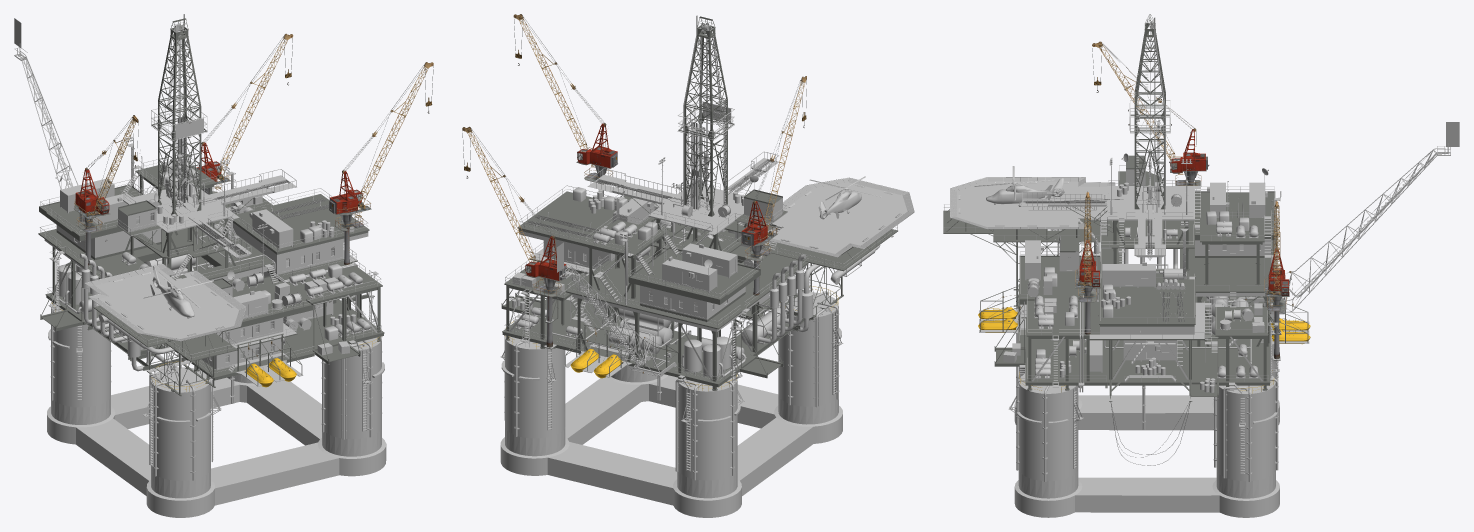
Rendered from RIG.fbx.
The picture shows the model from 3 angles, left to right: view 1: azimuth 30°, elevation 25°; view 2: azimuth 150°, elevation 25°; view 3: azimuth 270°, elevation 25°; orthographic projection. The views are drawn at different scales.
Parts seen in each view (by area): view 1: Vessel.005, Vessel.001, Deck, HeliPad, Block, DrillTOWER, Vessel.004, HeliPad2, Block02, Barrier2.001, Pipe_Vessel, Block01 (+33 smaller); view 2: Vessel.005, Vessel.001, Deck, HeliPad, DrillTOWER, Block, Block02, Vessel.004, OilEgzoust, Tube, StellArm.003, Barrier2.001 (+28 smaller); view 3: Deck, Vessel.005, Vessel.001, HeliPad, Block, DrillTOWER, Block02, OilDECK, HeliPad2, FlareStack, Vessel.004, StellArm.003 (+24 smaller).
Part boxes in pixels (x1,y1,x2,y2): Vessel.005: [47, 377, 386, 517]; Vessel.001: [48, 308, 384, 480]; Deck: [38, 198, 384, 380]; HeliPad: [84, 263, 246, 341]; Block: [229, 194, 369, 274]; DrillTOWER: [151, 18, 207, 215]; Vessel.004: [51, 367, 381, 498]; HeliPad2: [93, 278, 237, 396]; Block02: [39, 185, 161, 259]; Barrier2.001: [40, 155, 381, 372]; Pipe_Vessel: [50, 307, 382, 480]; Block01: [202, 317, 297, 370]; Vessel.005: [500, 374, 842, 517]; Vessel.001: [501, 306, 841, 480]; Deck: [502, 196, 808, 387]; HeliPad: [766, 177, 914, 257]; DrillTOWER: [677, 16, 734, 216]; Block: [517, 191, 656, 273]; Block02: [628, 247, 760, 321]; Vessel.004: [505, 365, 838, 498]; OilEgzoust: [741, 245, 880, 346]; Tube: [608, 246, 744, 376]; StellArm.003: [506, 223, 788, 389]; Barrier2.001: [504, 185, 806, 380]; Deck: [1018, 219, 1277, 385]; Vessel.005: [1014, 395, 1279, 517]; Vessel.001: [1017, 305, 1278, 481]; HeliPad: [950, 177, 1115, 229]; Block: [1089, 279, 1204, 340]; DrillTOWER: [1130, 14, 1170, 209]; Block02: [1195, 191, 1275, 257]; OilDECK: [1107, 186, 1194, 220]; HeliPad2: [943, 204, 1100, 306]; FlareStack: [1270, 143, 1450, 311]; Vessel.004: [1018, 469, 1275, 498]; StellArm.003: [1028, 225, 1268, 391].
Bounding box in the file's own units: 7655 × 9203 × 10000.
